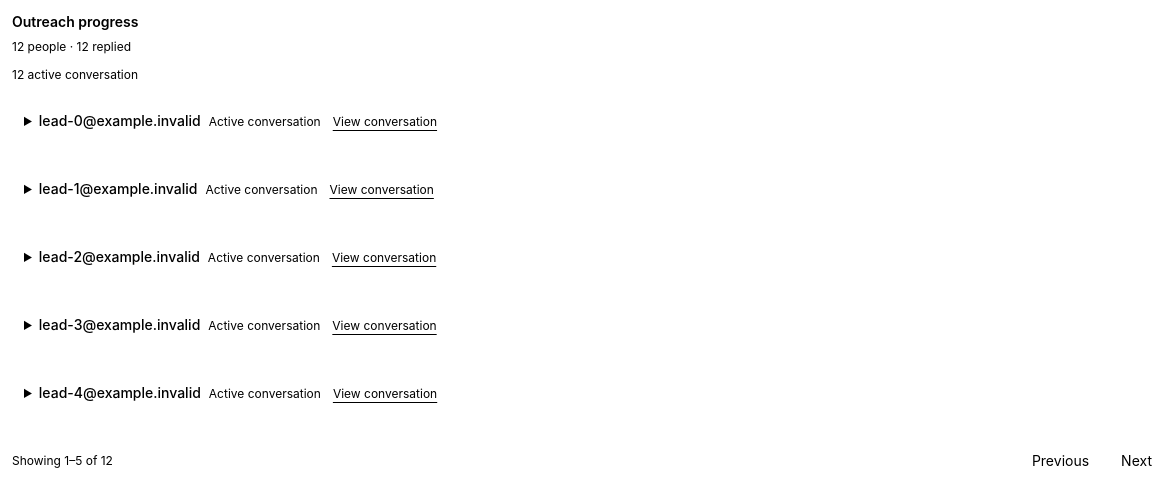
pages five contacts at a time and never fetches or acts just from viewing progress
Step 1. Click the button "Next" → coordinates (1137, 460), box [1109,438,1164,482]
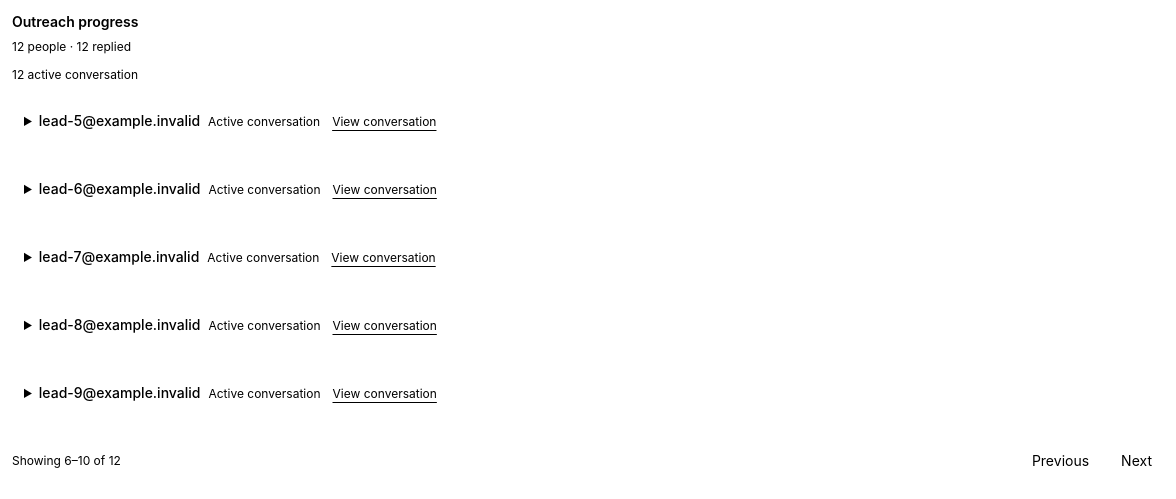
Step 2. Click the button "Next" → coordinates (1137, 460), box [1109,438,1164,482]
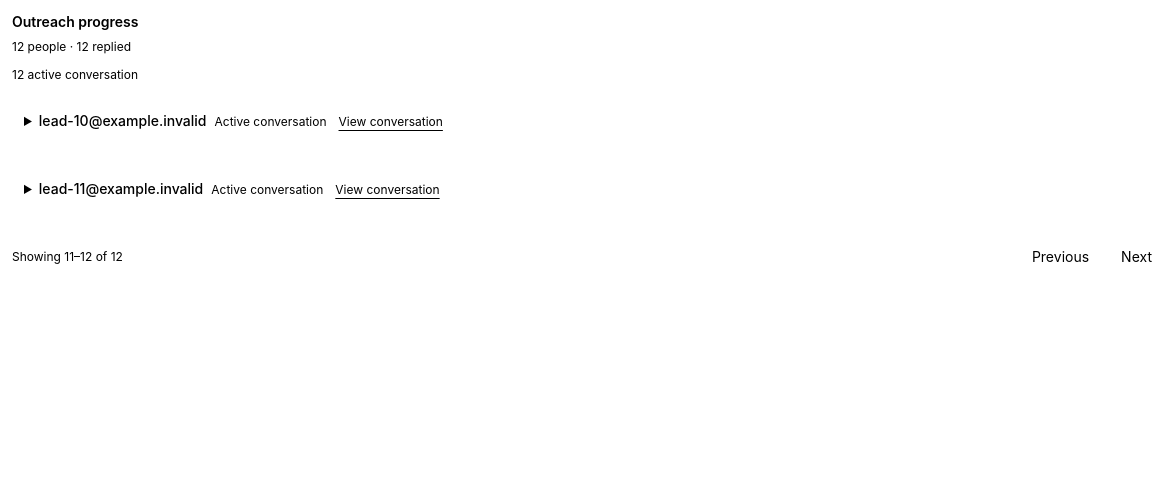
expect the button "Next" is disabled: met, box [1109,234,1164,278]
